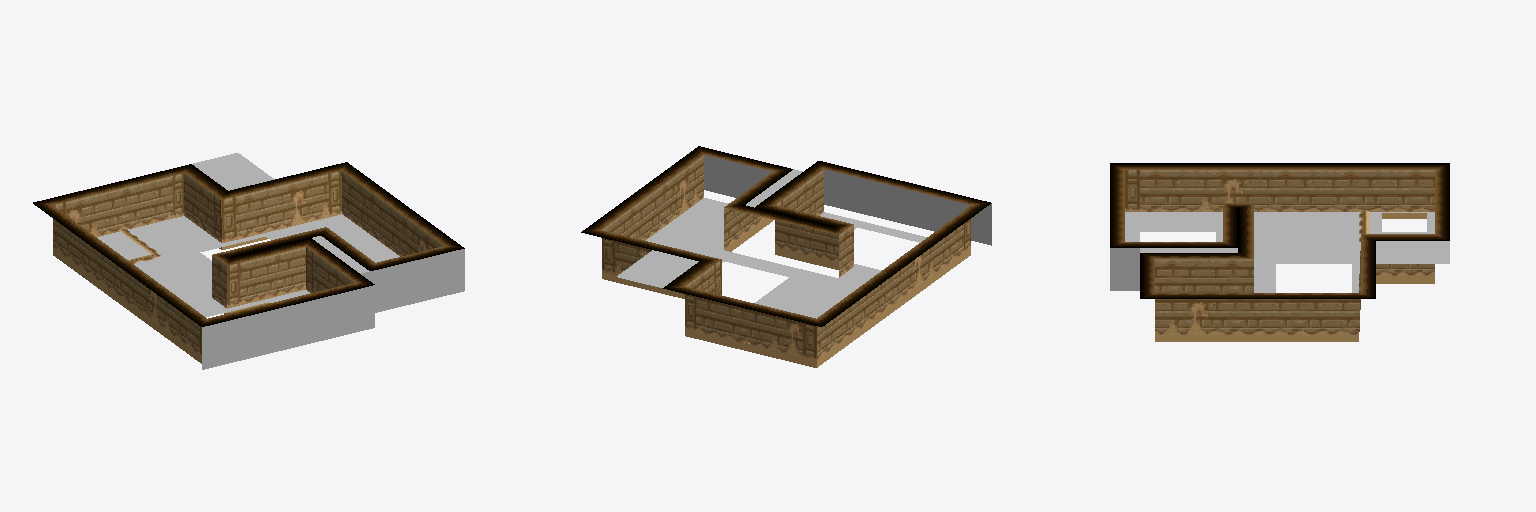
3 renders of one model, left to right at view 1: azimuth 30°, elevation 25°; view 2: azimuth 150°, elevation 25°; view 3: azimuth 270°, elevation 25°, orthographic.
Visible parts, largest first — view 1: polygon0, polygon4, polygon2, polygon3, polygon1; view 2: polygon0, polygon4, polygon2, polygon3, polygon1; view 3: polygon4, polygon0, polygon2, polygon3, polygon1.
Boxes of the visible parts, x1=… form: polygon0: x1=97, y1=153, x2=464, y2=369; polygon4: x1=53, y1=171, x2=413, y2=361; polygon2: x1=33, y1=162, x2=464, y2=326; polygon3: x1=66, y1=174, x2=443, y2=339; polygon1: x1=53, y1=171, x2=341, y2=363; polygon0: x1=617, y1=155, x2=991, y2=318; polygon4: x1=602, y1=170, x2=963, y2=367; polygon2: x1=581, y1=146, x2=990, y2=326; polygon3: x1=615, y1=155, x2=933, y2=364; polygon1: x1=602, y1=200, x2=970, y2=367; polygon4: x1=1140, y1=170, x2=1434, y2=341; polygon0: x1=1110, y1=212, x2=1449, y2=292; polygon2: x1=1110, y1=163, x2=1449, y2=298; polygon3: x1=1155, y1=170, x2=1360, y2=341; polygon1: x1=1125, y1=170, x2=1360, y2=280.
Bounding box in the file's own units: 10.62 × 1.81 × 11.25.
6 materials, 5 textured.